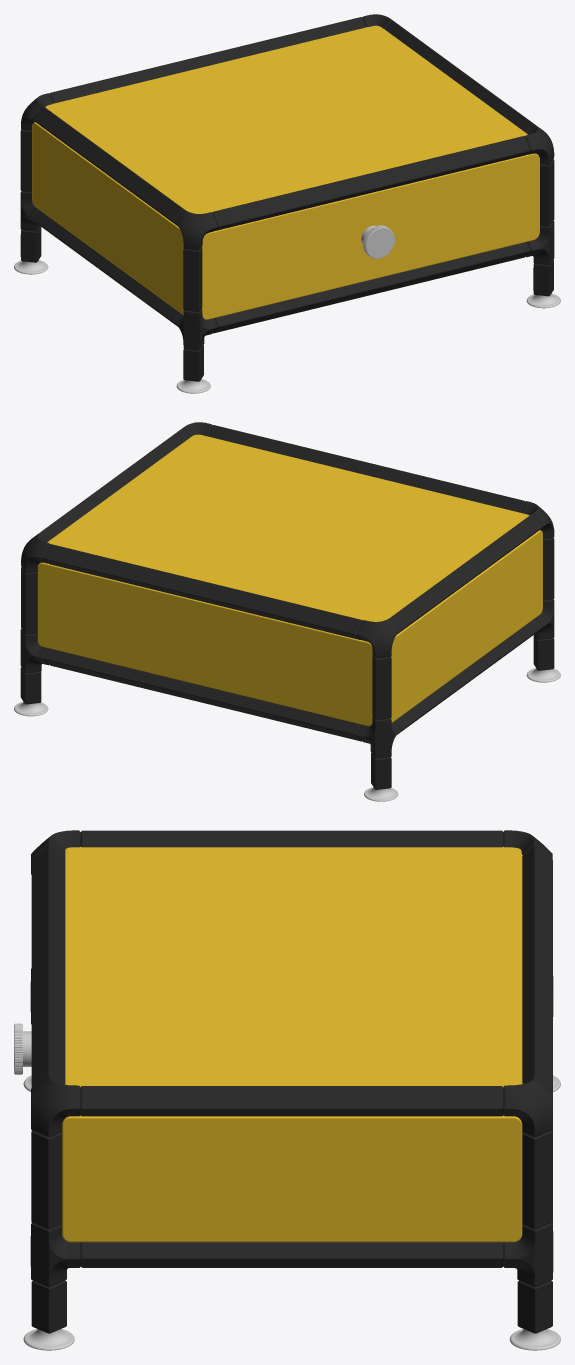
The picture shows the model from 3 angles, top to bottom: view 1: azimuth 30°, elevation 25°; view 2: azimuth 150°, elevation 25°; view 3: azimuth 270°, elevation 25°; orthographic projection. The views are drawn at different scales.
Visible parts, largest first — view 1: 420x329x79; view 2: 420x329x79; view 3: 420x329x79.
Boxes of the visible parts, <box> form: 420x329x79: <box>14,14,560,393</box>; 420x329x79: <box>14,422,560,801</box>; 420x329x79: <box>14,830,560,1350</box>.
Size of the model in its own units: 0.5099 by 0.2183 by 0.4257.
